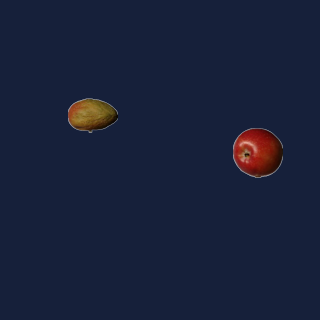Apple Braeburn: (232, 127, 282, 177)
Papaya: (67, 90, 117, 140)
